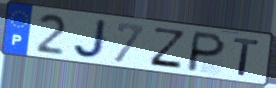2: (35, 13, 69, 57)
7: (116, 21, 147, 65)
J: (71, 18, 109, 60)
P: (184, 30, 228, 74)
T: (232, 36, 261, 78)
Z: (148, 26, 187, 71)
